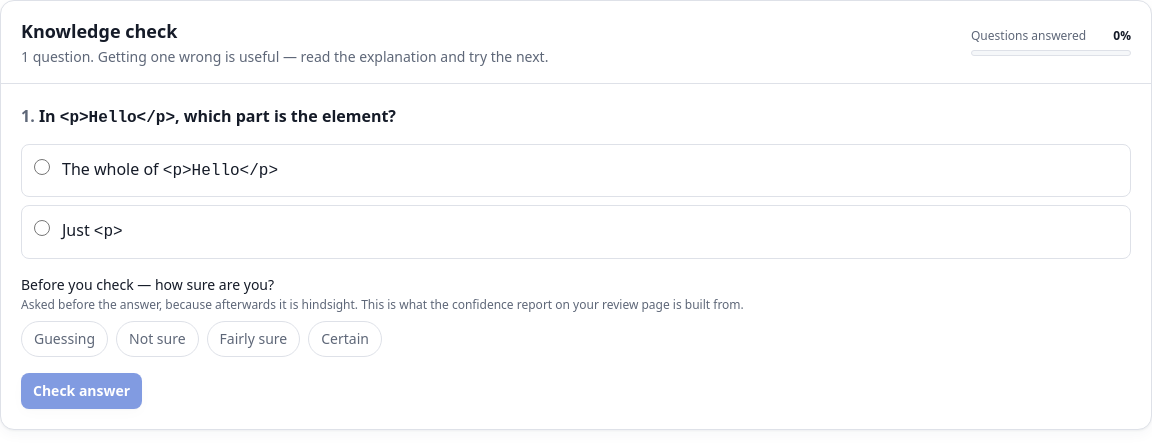
Test: inline formatting of authored text › renders emphasis in a quiz prompt, its options and its explanation
Click the radio button labelled "The whole of <p>Hello</p>".
click(42, 167)  # box [34,159,50,175]
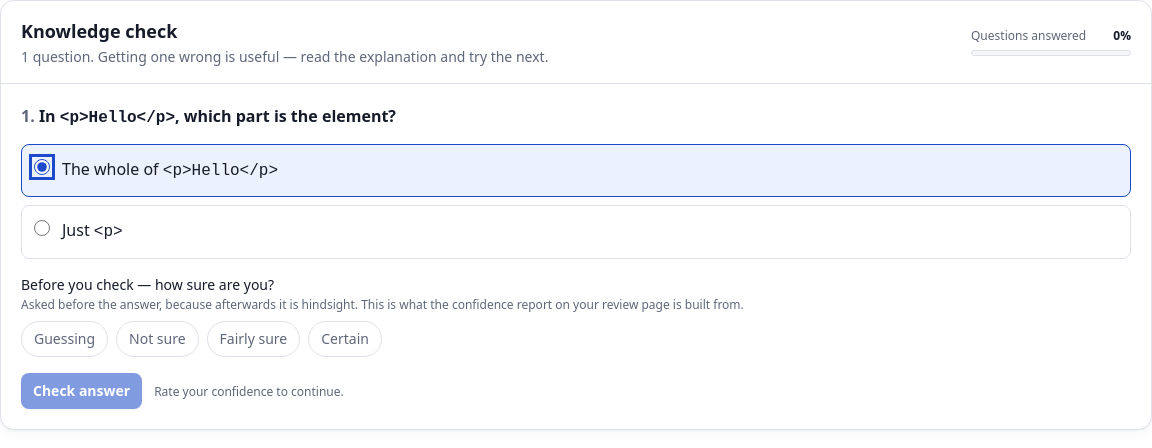
Click the radio button labelled "Certain".
click(345, 339)  # box [308,321,382,357]
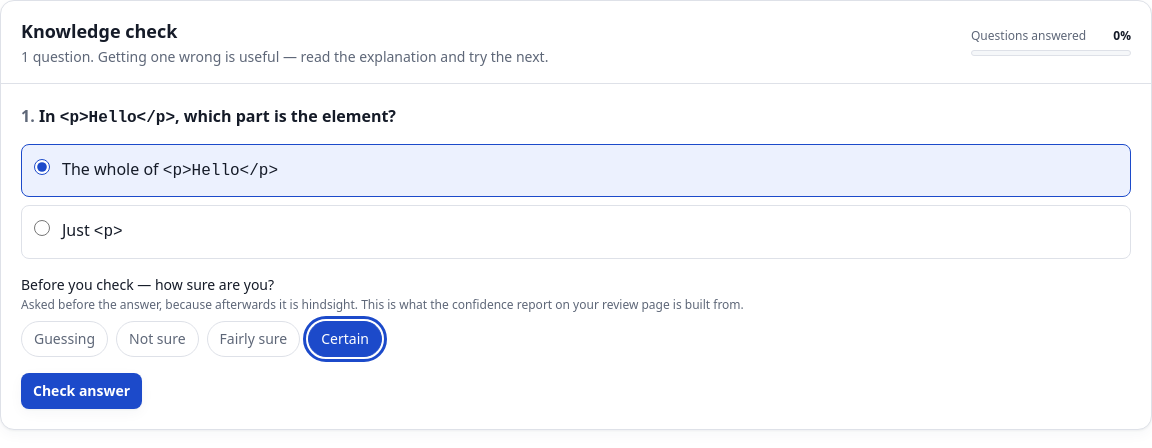
Click the button "Check answer".
click(82, 391)  # box [21,373,142,409]
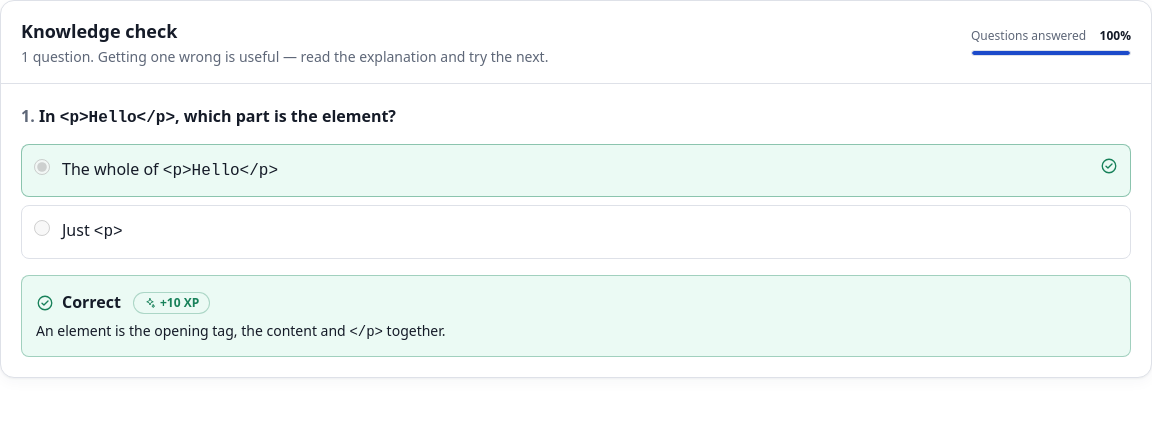
Expected: the text "An element is the opening tag" is shown, [36,321,349,340]
